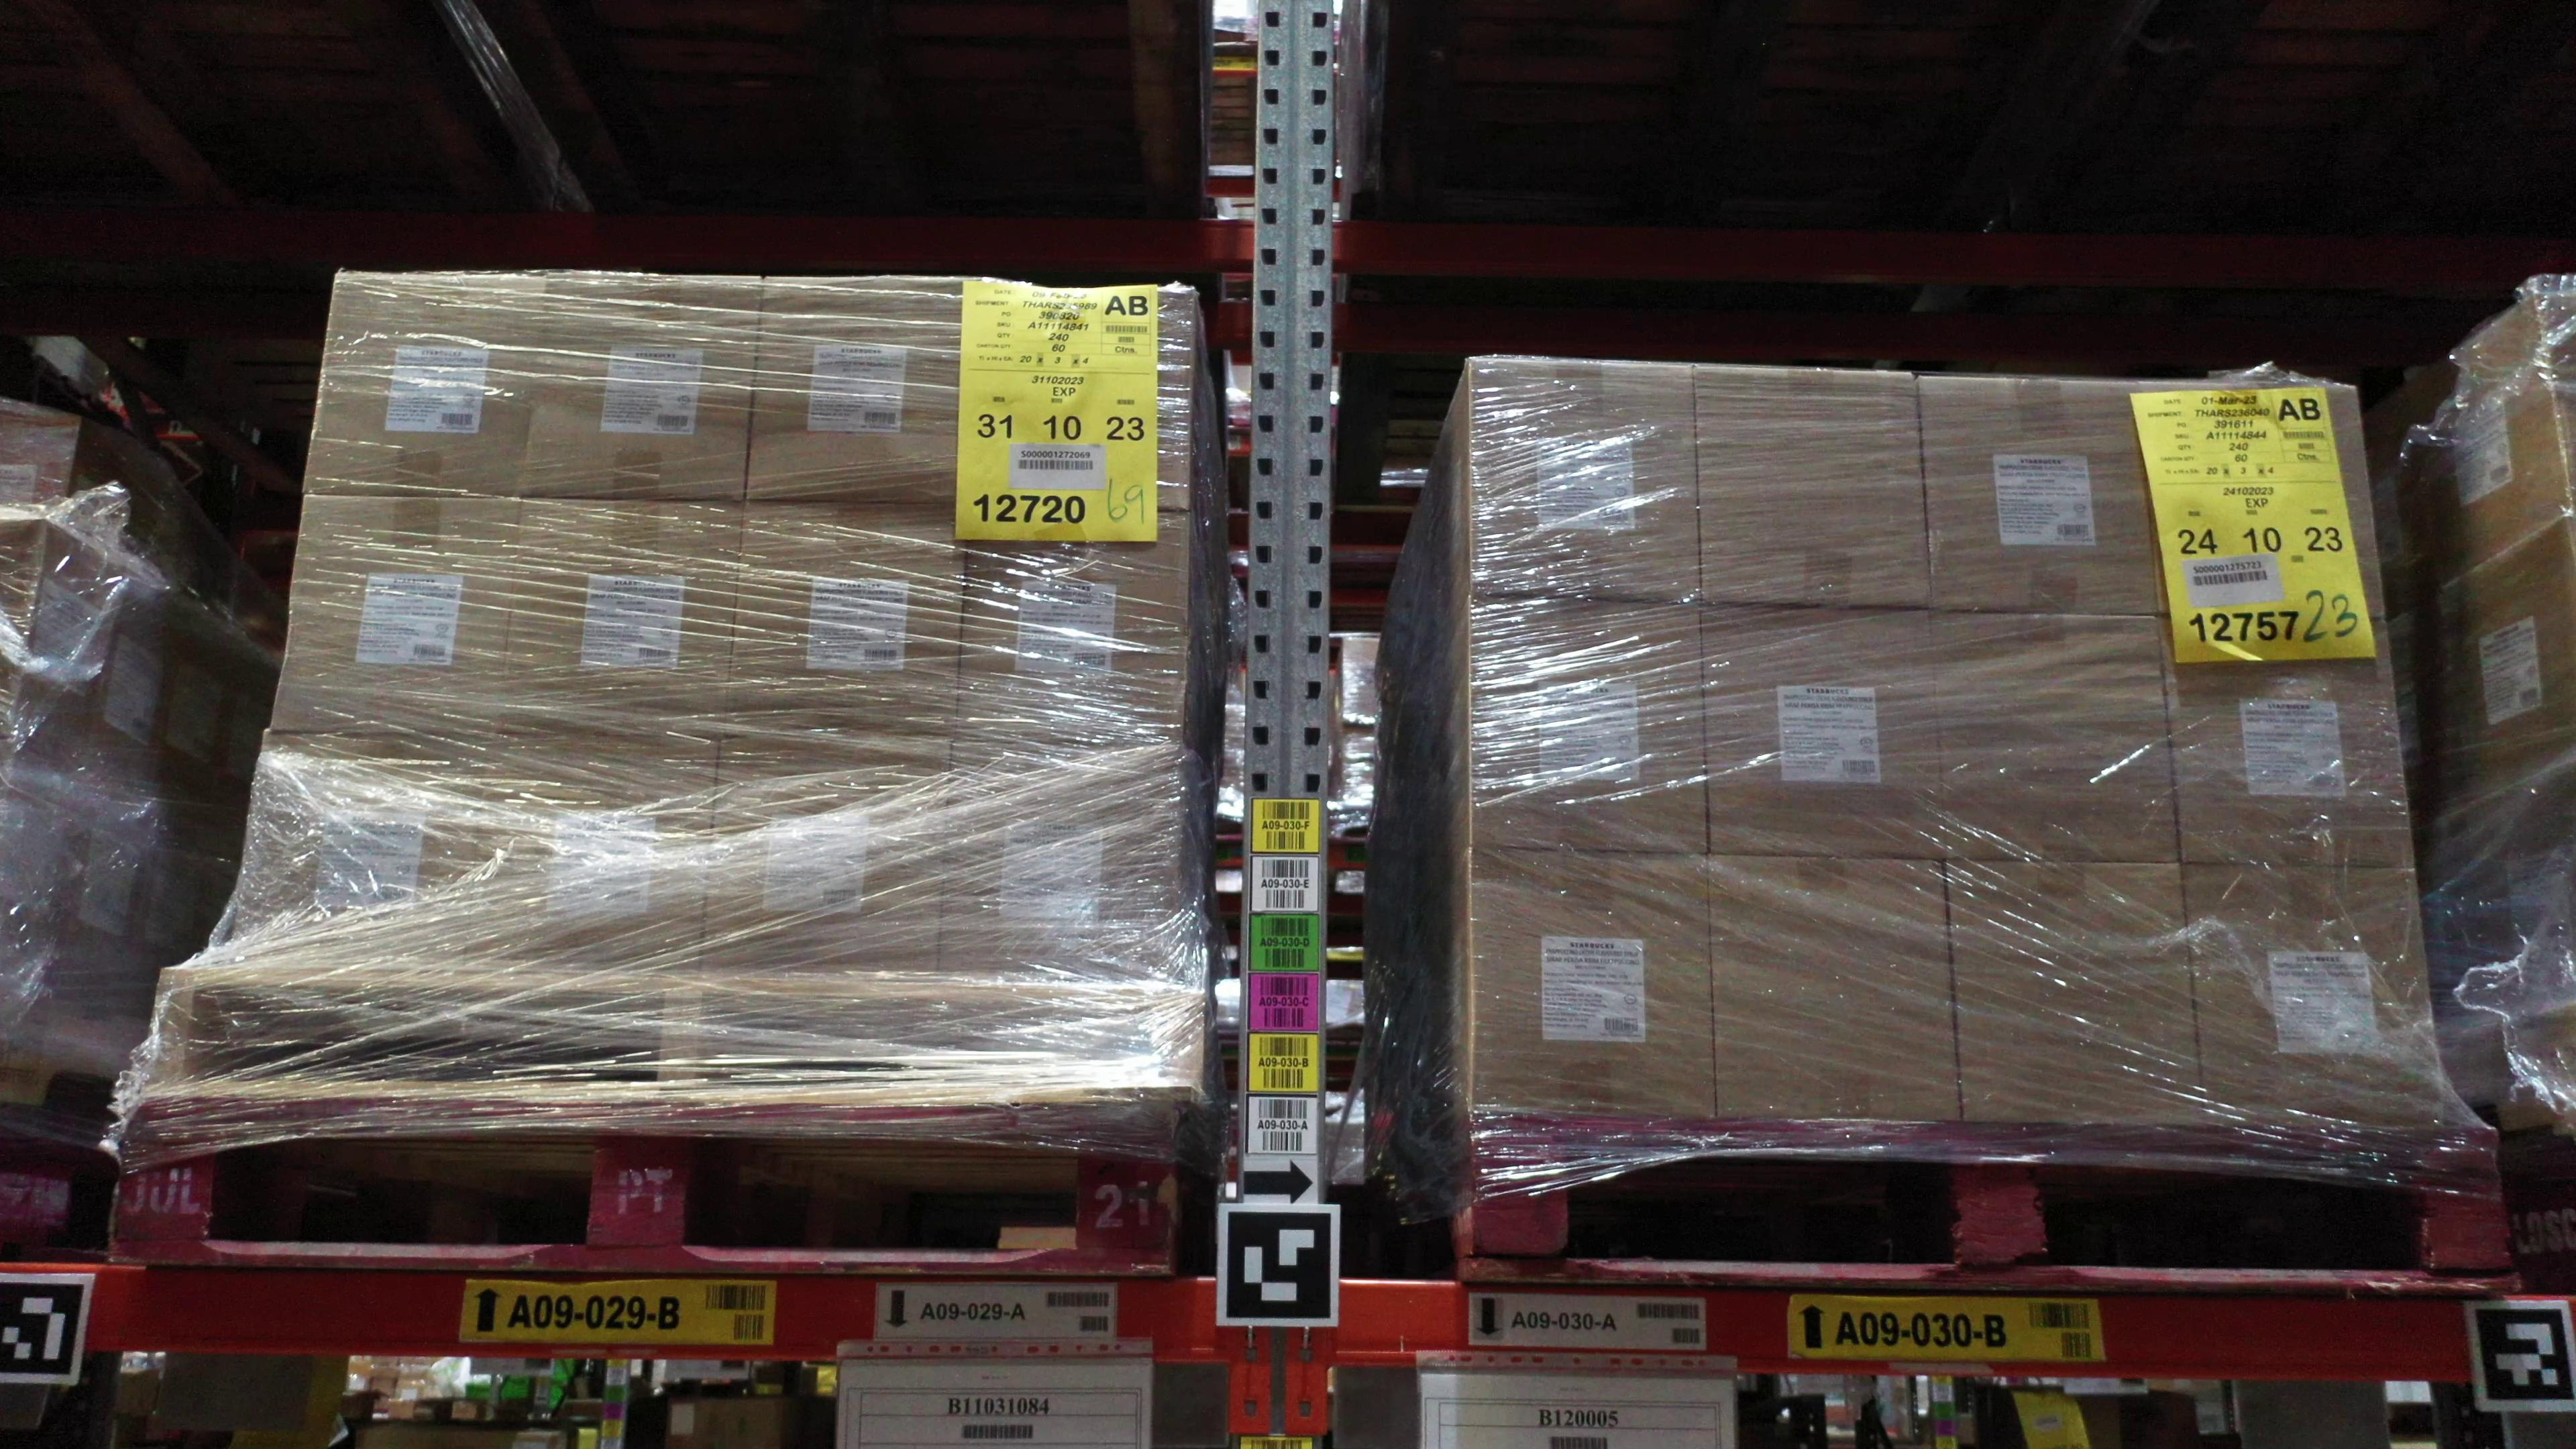-: (2183, 862, 2450, 1132), (1943, 862, 2212, 1129), (1465, 847, 1720, 1125), (1709, 853, 1964, 1125), (1932, 609, 2185, 865), (2160, 617, 2417, 870), (1702, 602, 1951, 862), (230, 729, 492, 975), (1465, 596, 1711, 858), (464, 736, 722, 984), (494, 494, 743, 745), (720, 499, 973, 747), (697, 743, 955, 982), (269, 497, 520, 740), (1918, 373, 2162, 619), (939, 743, 1184, 985), (2143, 379, 2383, 625), (299, 265, 550, 499), (1467, 357, 1700, 609), (948, 506, 1189, 748), (1693, 370, 1934, 612), (747, 272, 994, 506), (518, 274, 764, 502), (977, 285, 1192, 517)
